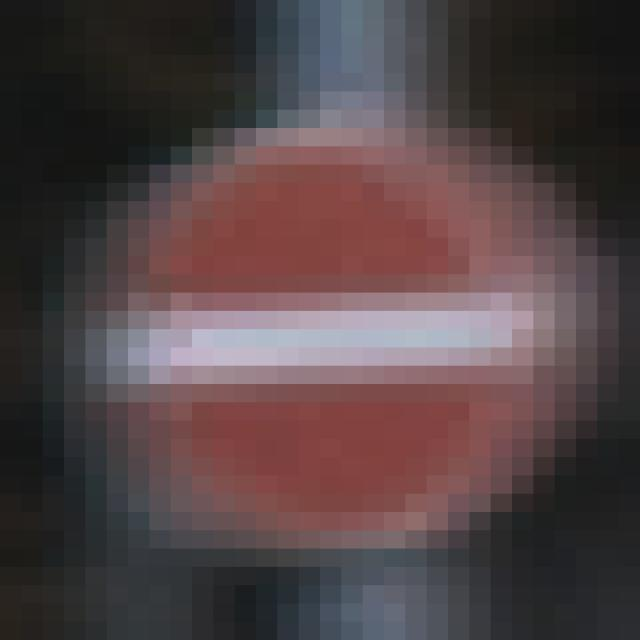No Entry: (108, 111, 534, 550)
